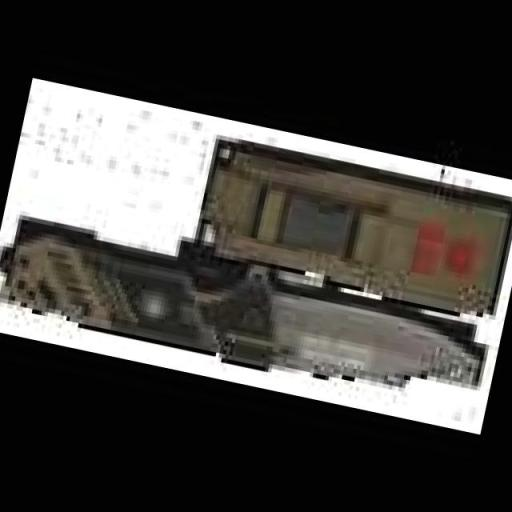knife: (0, 208, 491, 411)
